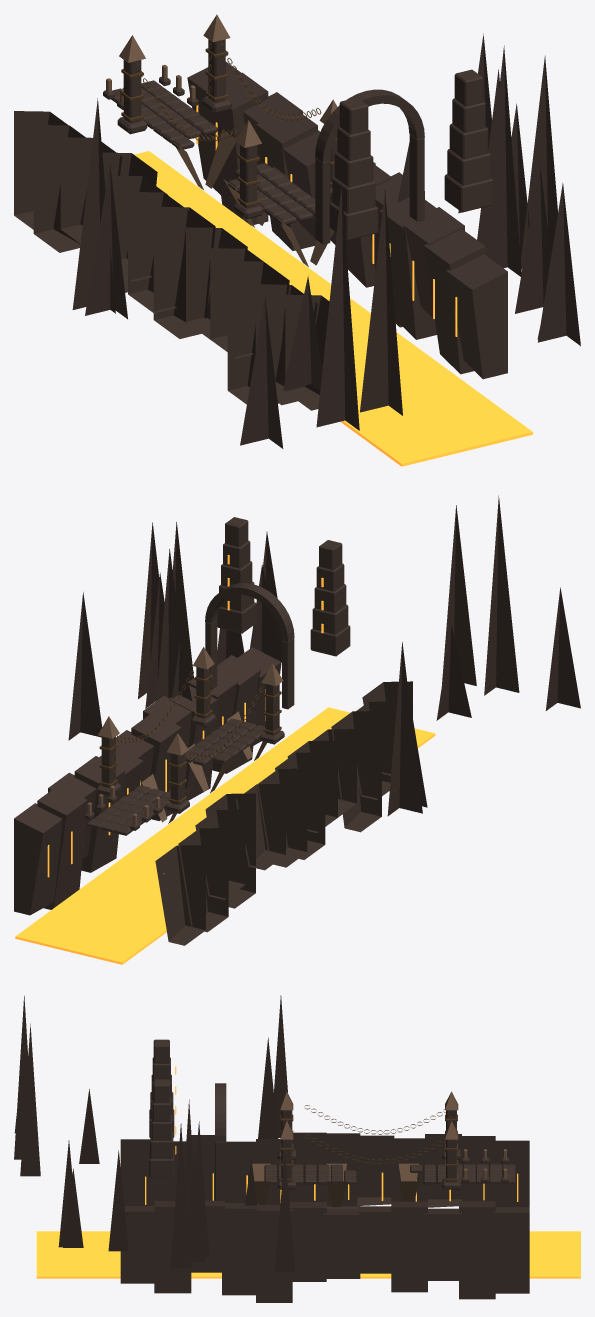
File: BrokenBridgeV18_16.fbx
3 renders of one model, top to bottom at view 1: azimuth 30°, elevation 25°; view 2: azimuth 150°, elevation 25°; view 3: azimuth 270°, elevation 25°, orthographic. The views are drawn at different scales.
Visible parts, largest first — view 1: BrokenBridgeV18_16; view 2: BrokenBridgeV18_16; view 3: BrokenBridgeV18_16.
Boxes of the visible parts, <box> form: BrokenBridgeV18_16: <box>14,14,580,466</box>; BrokenBridgeV18_16: <box>14,495,580,964</box>; BrokenBridgeV18_16: <box>14,995,580,1302</box>.
Bounding box in the file's own units: 23.95 × 16.91 × 38.55.
